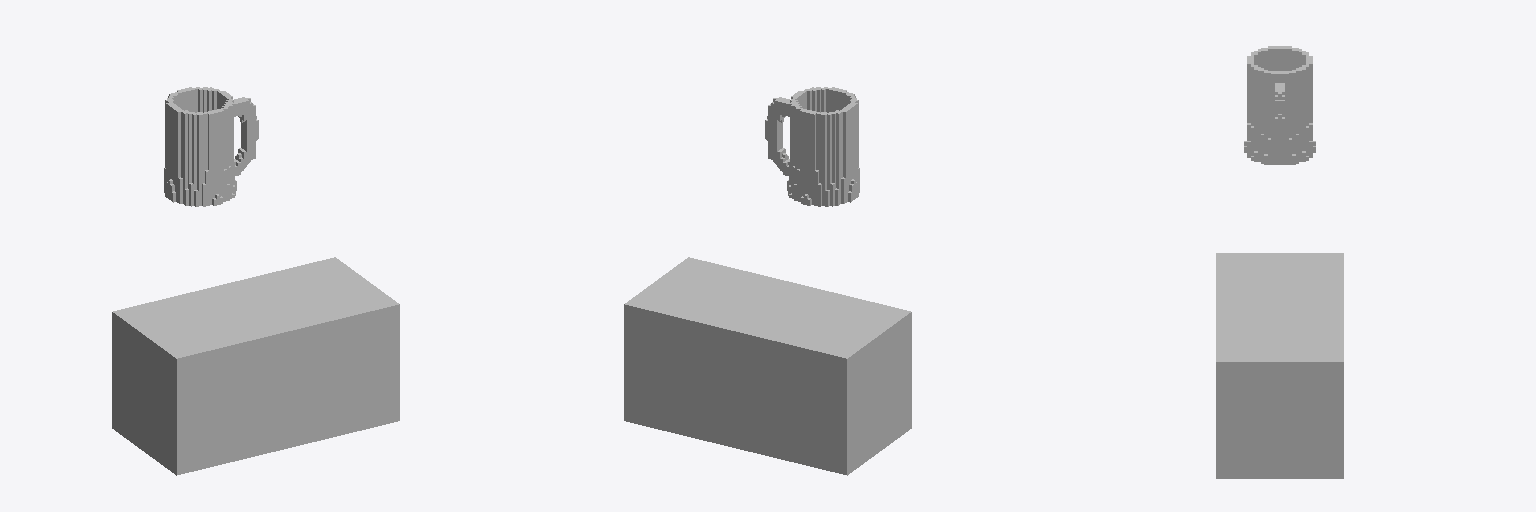
The model's file is measurement test.obj.
3 views of the same model, side by side, from view 1: azimuth 30°, elevation 25°; view 2: azimuth 150°, elevation 25°; view 3: azimuth 270°, elevation 25° (orthographic).
Parts seen in each view (by area): view 1: Cube_Cube.001, Cube.001_Cube.002, Mug_Cylinder.001; view 2: Cube_Cube.001, Cube.001_Cube.002, Mug_Cylinder.001; view 3: Cube.001_Cube.002, Mug_Cylinder.001, Cube_Cube.001.
Part boxes in pixels (bbox=[...]): Cube_Cube.001: bbox=[112, 284, 287, 475]; Cube.001_Cube.002: bbox=[224, 257, 399, 447]; Mug_Cylinder.001: bbox=[164, 87, 258, 206]; Cube_Cube.001: bbox=[736, 284, 911, 475]; Cube.001_Cube.002: bbox=[624, 257, 799, 447]; Mug_Cylinder.001: bbox=[765, 87, 859, 206]; Cube.001_Cube.002: bbox=[1216, 308, 1343, 478]; Mug_Cylinder.001: bbox=[1244, 46, 1315, 164]; Cube_Cube.001: bbox=[1216, 253, 1343, 307].
Size of the model in its own units: 2 by 2.89 by 1.